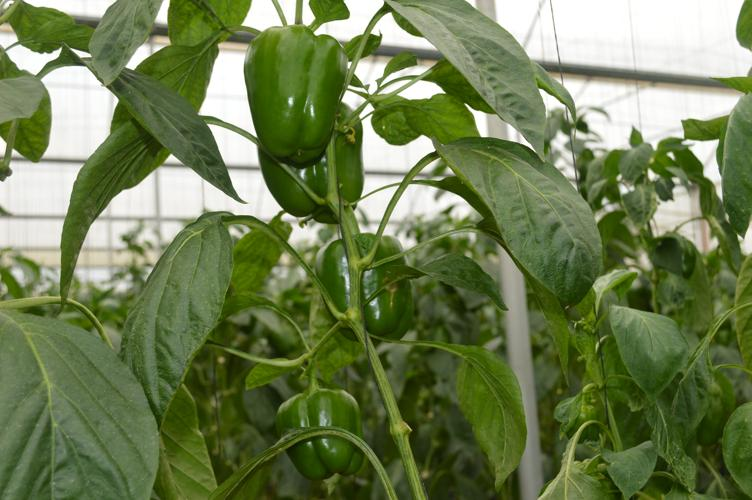BellPepper: (241, 14, 347, 175), (312, 230, 418, 339), (273, 384, 380, 487), (255, 121, 368, 212)
